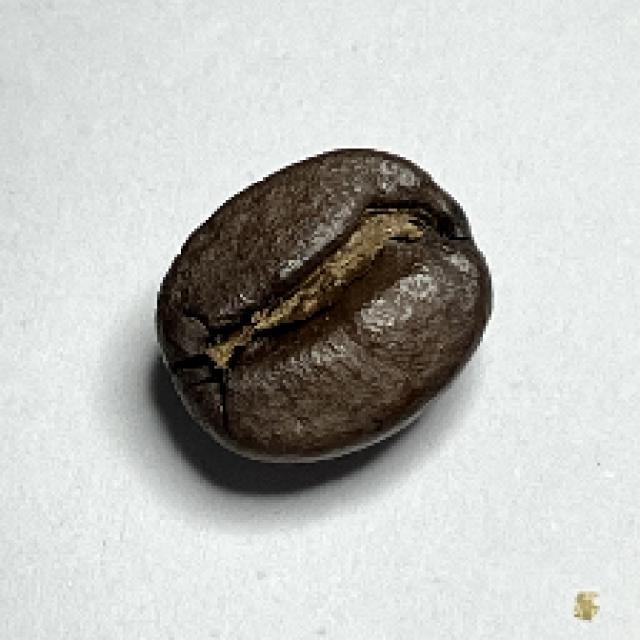bean: (147, 143, 496, 466)
